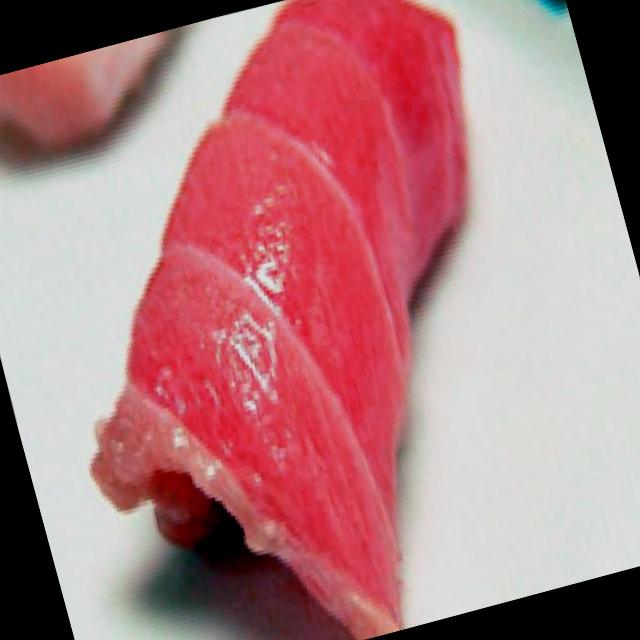Sushi: (0, 0, 623, 640)
